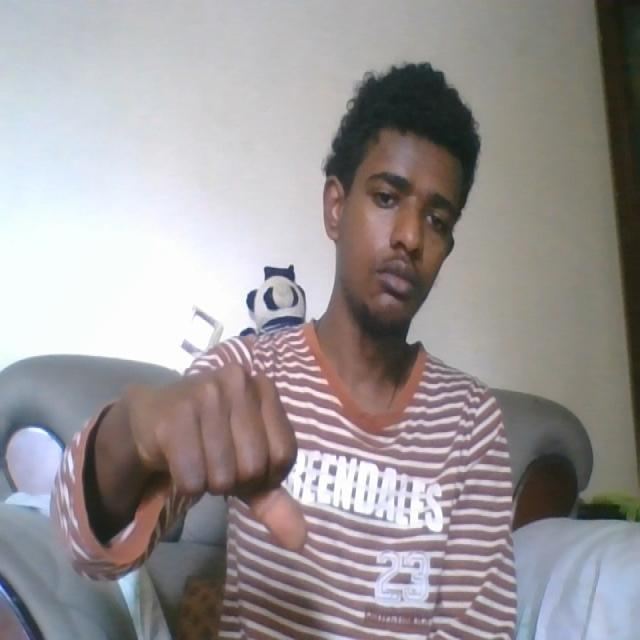injera: (136, 360, 308, 556)
